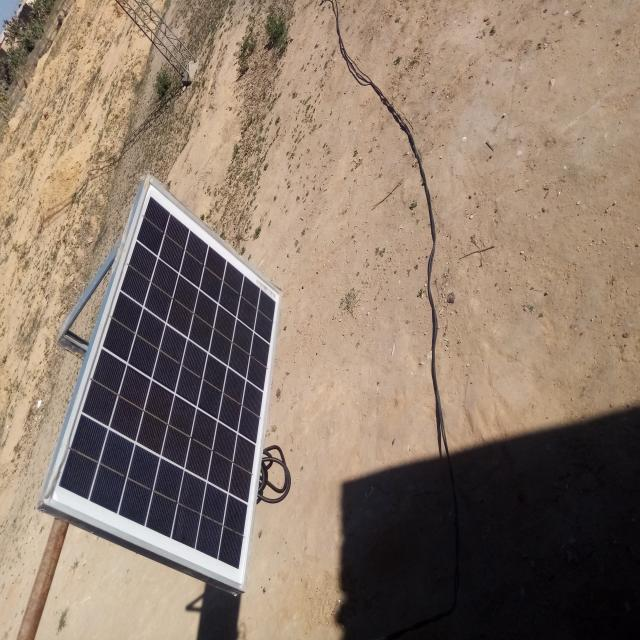no faulty: (46, 178, 282, 589)
